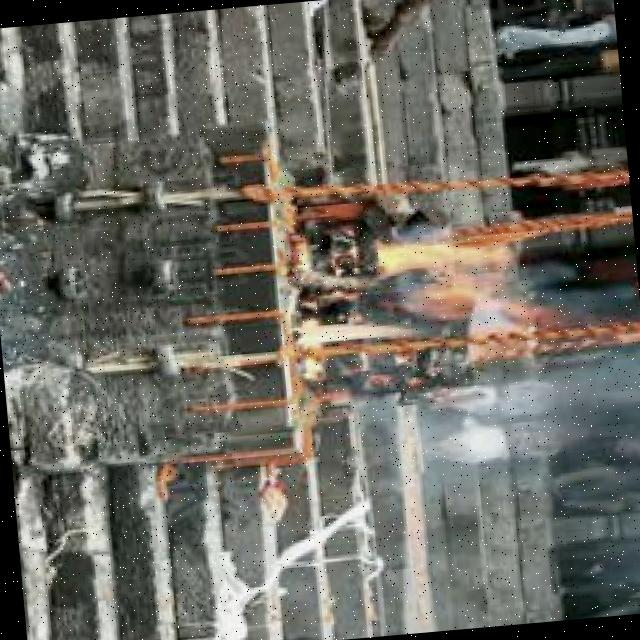fire: (277, 230, 527, 350)
